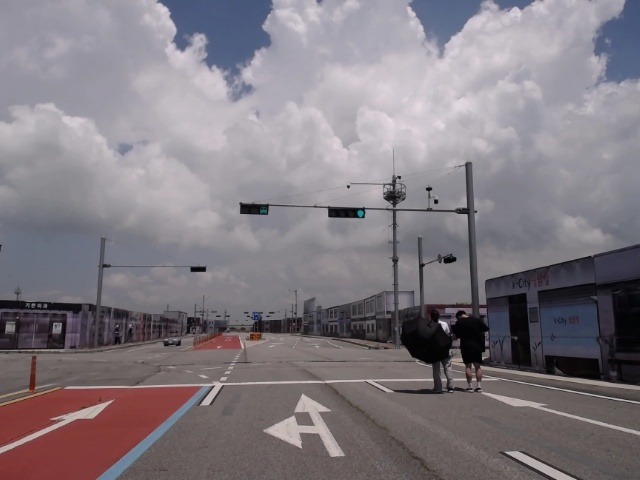straight_green_4: (327, 206, 367, 219)
